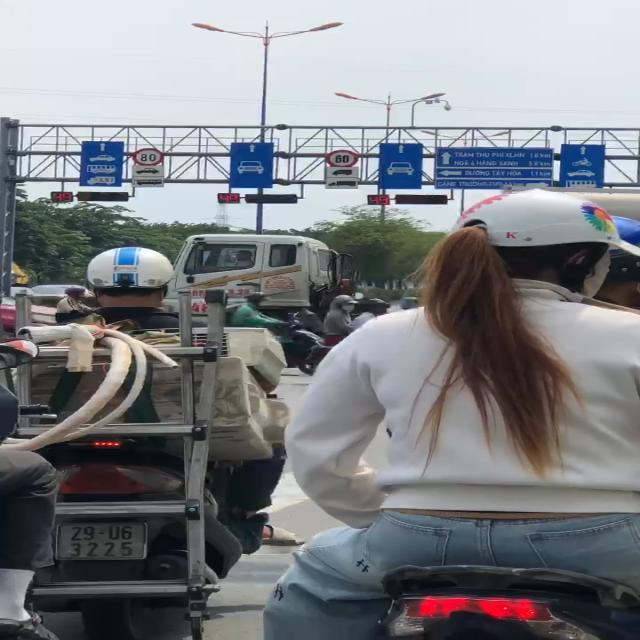Bien bao toc do toi da cho phep: (322, 146, 367, 172), (132, 146, 174, 170)
